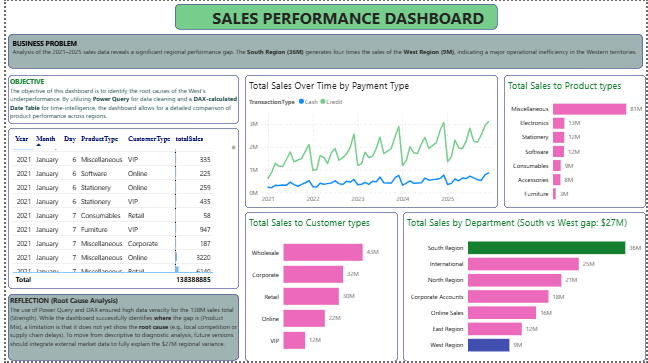

The dashboard page shown, as its layout file describes it:
{"tool":"powerbi","page":{"name":"Analytical dashboard","canvas":[1280,720],"ordinal":0},"visuals":[{"type":"lineChart","title":"Total Sales Over Time by Payment Type","fields":{"Category":["calanderTable.Date.Variation.Date Hierarchy.Year","calanderTable.Date.Variation.Date Hierarchy.Quarter","calanderTable.Date.Variation.Date Hierarchy.Month","calanderTable.Date.Variation.Date Hierarchy.Day"],"Series":["sales.TransactionType"],"Y":["measureCollection.totalSales"]},"box":[478.5,147.8,506.3,266.3],"z":0},{"type":"barChart","title":"Total Sales to Product types","fields":{"Category":["product.ProductType"],"Y":["measureCollection.totalSales"]},"box":[996.6,147.8,283.9,266.3],"z":1000},{"type":"tableEx","title":"Total Sales to Product types","fields":{"Values":["calanderTable.Date.Variation.Date Hierarchy.Year","calanderTable.Date.Variation.Date Hierarchy.Month","calanderTable.Date.Variation.Date Hierarchy.Day","product.ProductType","customers.CustomerType","measureCollection.totalSales"]},"box":[4.4,253.2,462.4,322],"z":2000},{"type":"barChart","title":"Total Sales to Customer types","fields":{"Category":["customers.CustomerType"],"Y":["measureCollection.totalSales"]},"box":[478.5,421.5,305.9,298.5],"z":3000},{"type":"barChart","title":"Total Sales by Department (South vs West gap: $27M)","fields":{"Category":["salesPerson.SalespersonDepartment"],"Y":["measureCollection.totalSales"]},"box":[794.6,421.5,485.9,298.5],"z":4000},{"type":"textbox","box":[339,6.2,645.2,51.3],"z":5000},{"type":"textbox","box":[4.9,66.2,1269.9,69.3],"z":6000},{"type":"textbox","box":[4.4,147.8,462.4,98],"z":10000},{"type":"textbox","box":[4.4,586.8,462.4,133.2],"z":11000}]}

Visuals, with their boxes in screenshot pixels (x1, y1, x2, y2), scaled from the page's 1280x720 canvas onto the 648x363 screenshot:
"Total Sales Over Time by Payment Type" lineChart: 242, 75, 499, 209
"Total Sales to Product types" barChart: 505, 75, 647, 209
"Total Sales to Product types" tableEx: 2, 128, 236, 290
"Total Sales to Customer types" barChart: 242, 213, 397, 362
"Total Sales by Department (South vs West gap: $27M)" barChart: 402, 213, 647, 362
textbox: 172, 3, 498, 29
textbox: 2, 33, 645, 68
textbox: 2, 75, 236, 124
textbox: 2, 296, 236, 362
